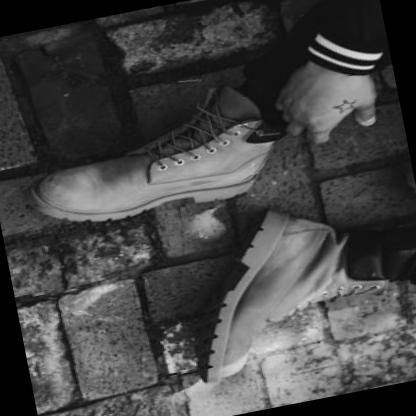ankle: (331, 259, 340, 267), (232, 151, 241, 158)
heel: (245, 169, 256, 178), (288, 219, 297, 226)
left_foot: (176, 195, 390, 384)
pinky: (54, 171, 65, 179), (242, 362, 244, 364)
right_foot: (19, 107, 277, 236)
toe: (51, 197, 64, 205), (227, 355, 231, 359)
